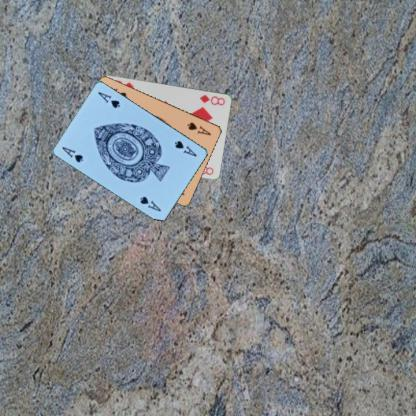8d: (198, 92, 226, 106)
As: (172, 138, 198, 158), (60, 144, 84, 164), (185, 120, 213, 136)
